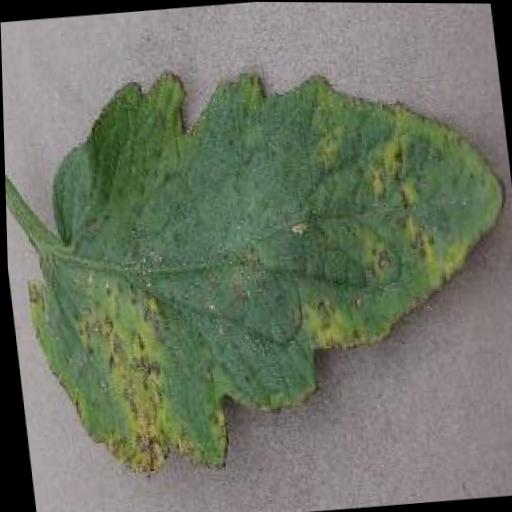Bacterial Spot: (1, 35, 512, 496)
